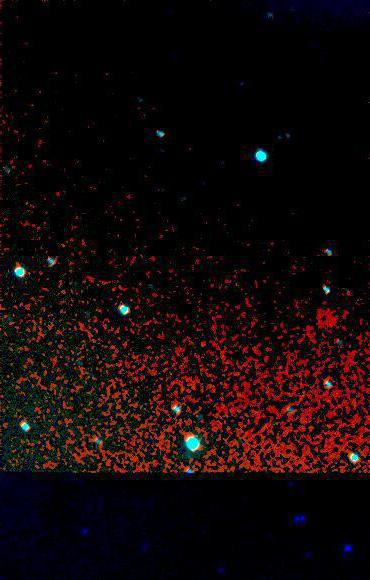star: (189, 330, 219, 360)
